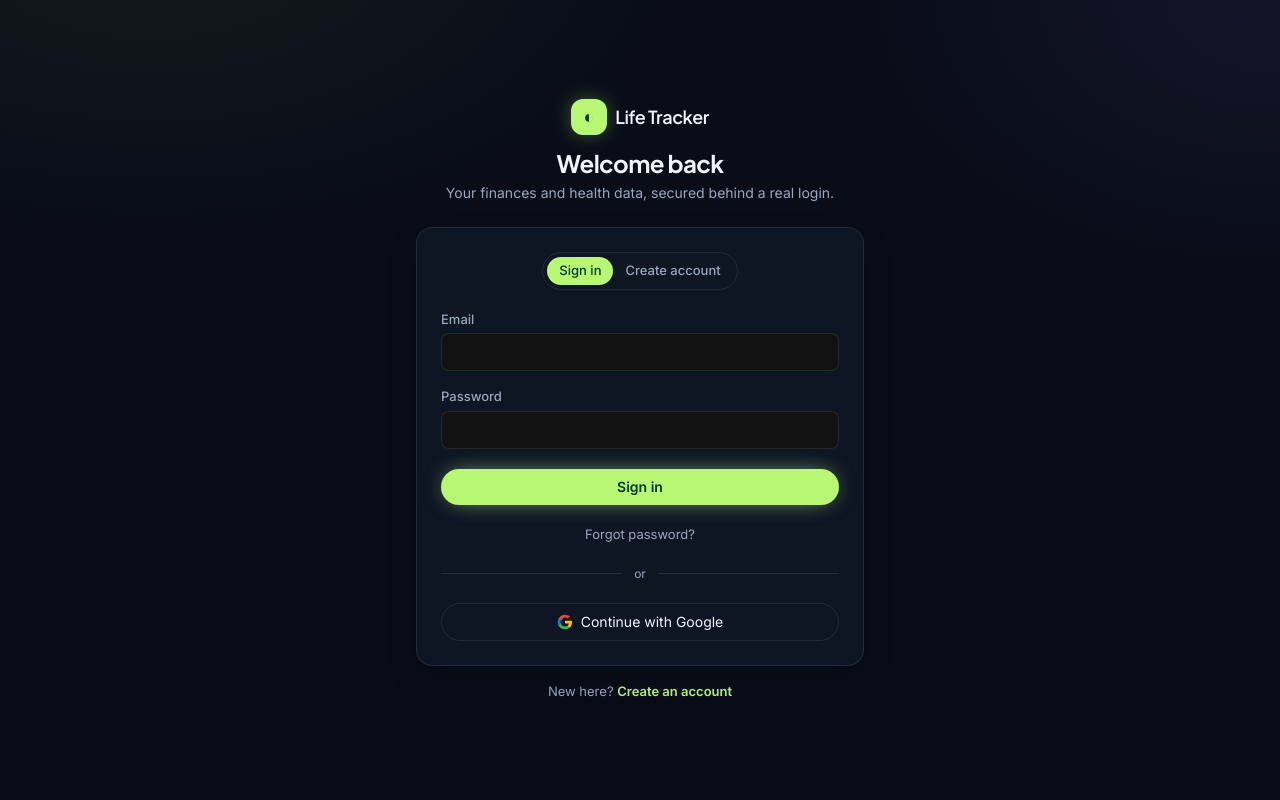
Test: Login / registration flow › blocks submit when the confirmation password does not match
Click the radio button labelled "Create account" at (673, 271), box [614,257,733,284]
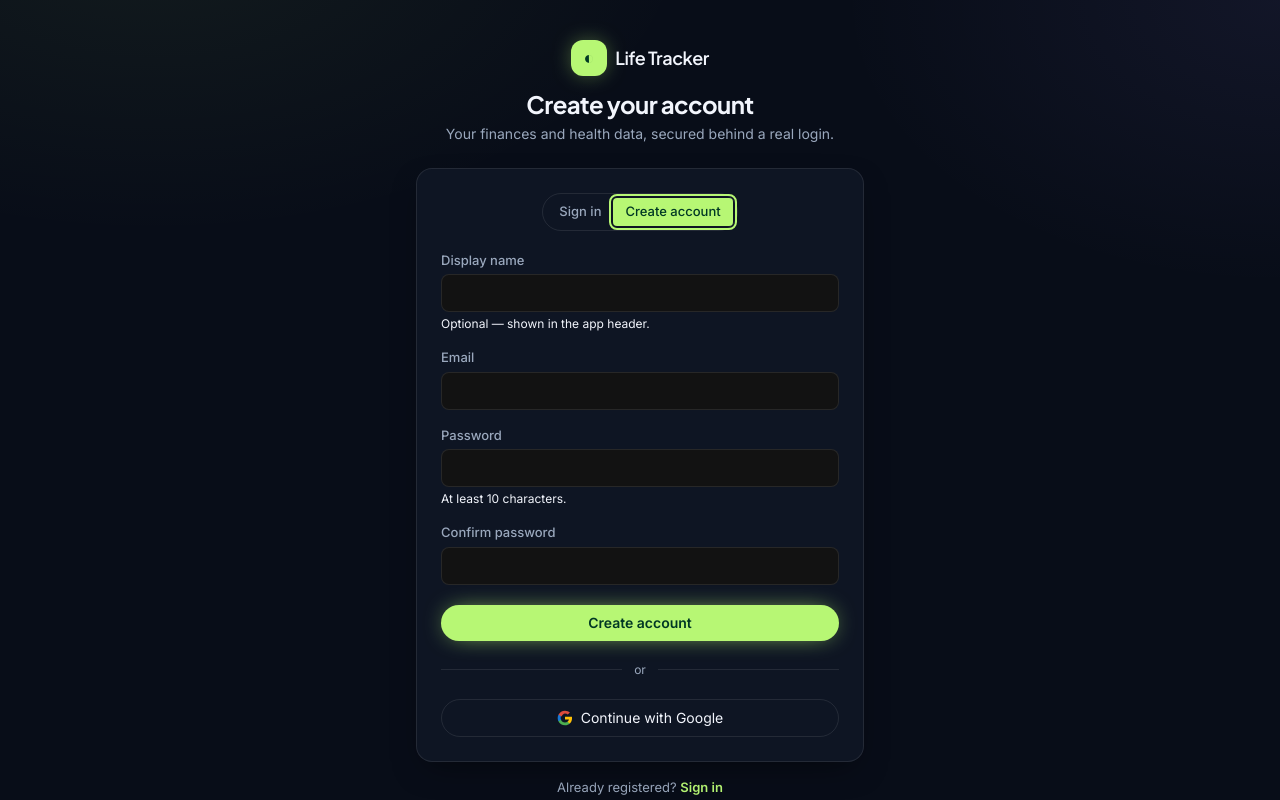
Type "new@example.com" into the field labelled "Email" at (640, 390), box [441,372,839,410]
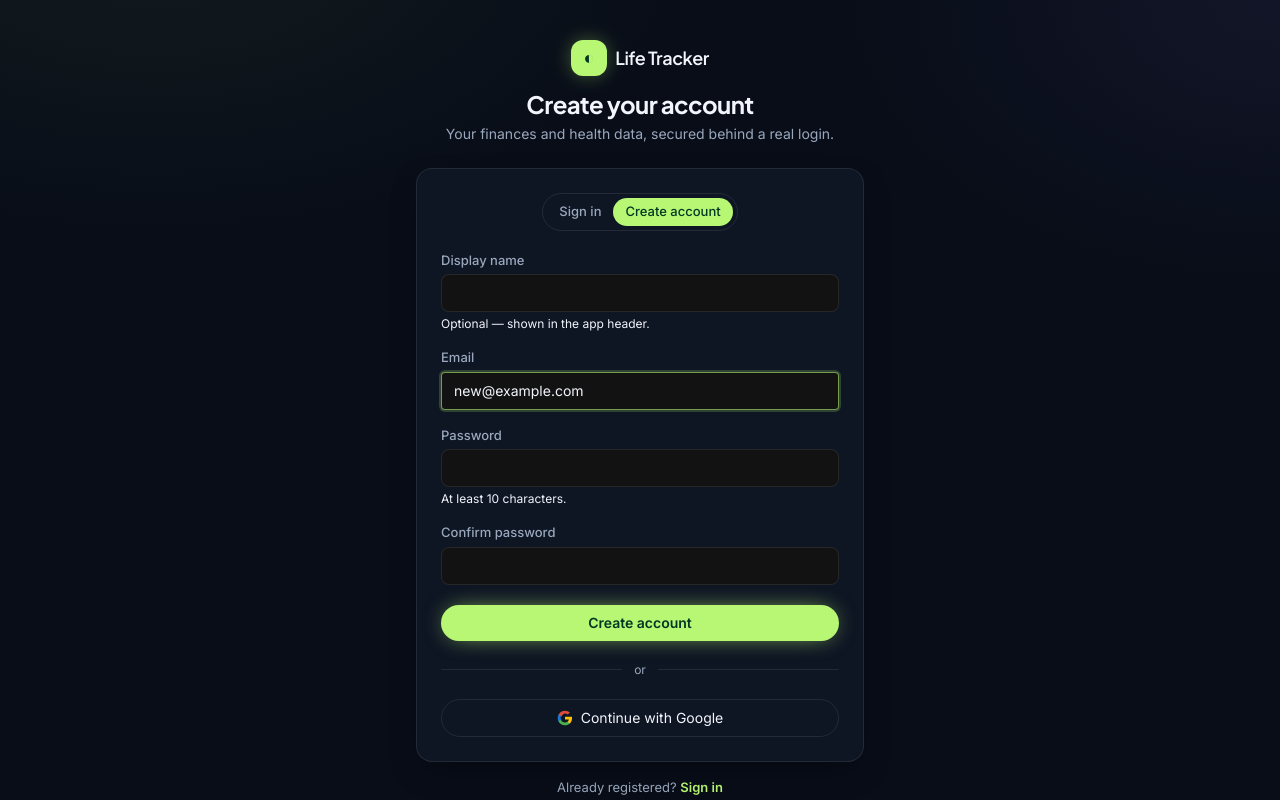
Type "supersecret123" into the password field labelled "Password" at (640, 468), box [441,449,839,487]
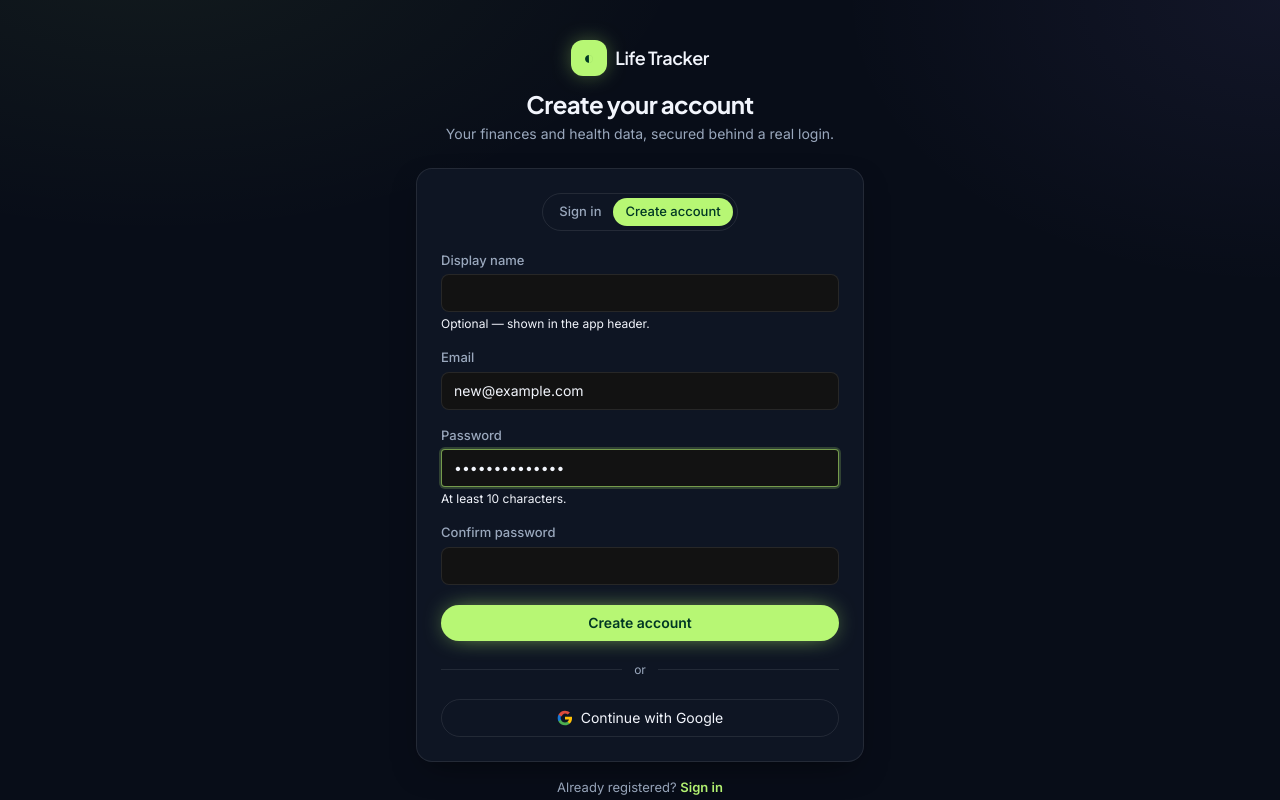
Type "different-pass1" into the password field labelled "Confirm password" at (640, 566), box [441,546,839,584]
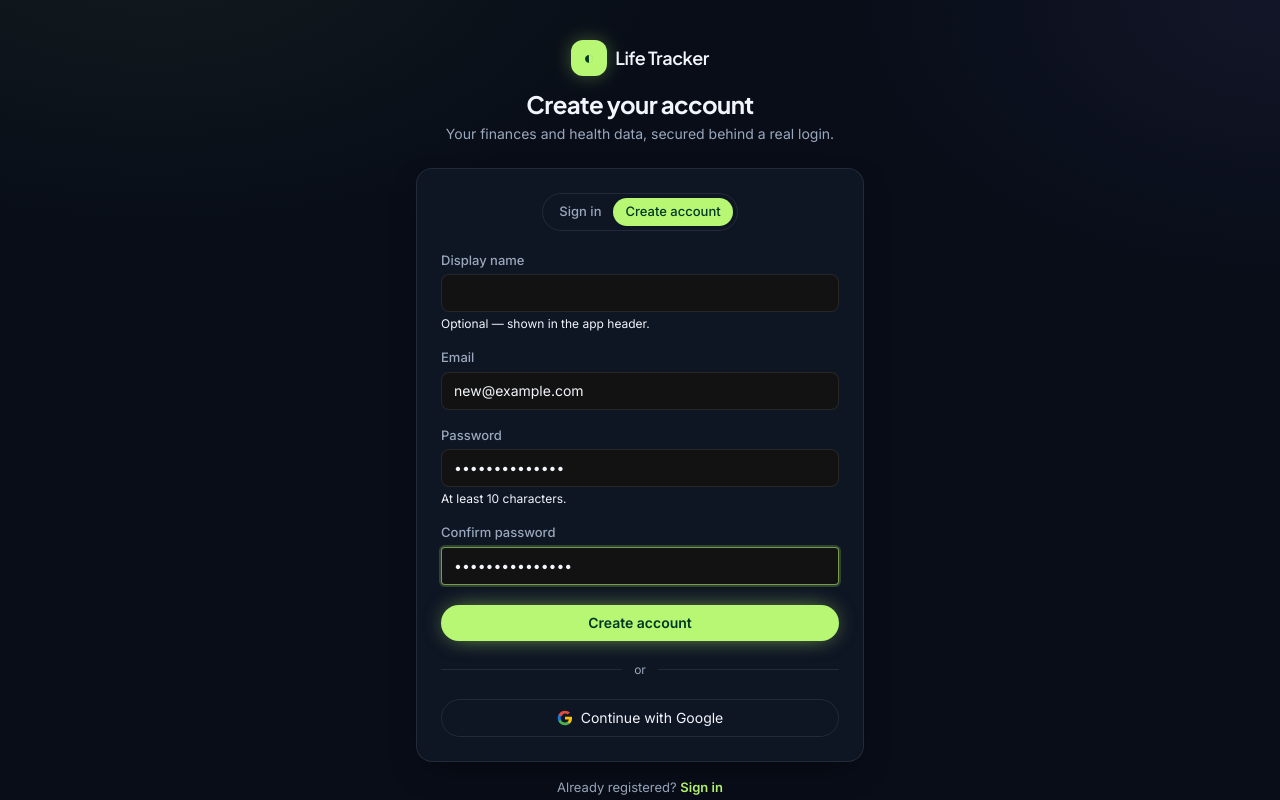
Click the button "Create account" at (640, 622), box [441,604,839,640]
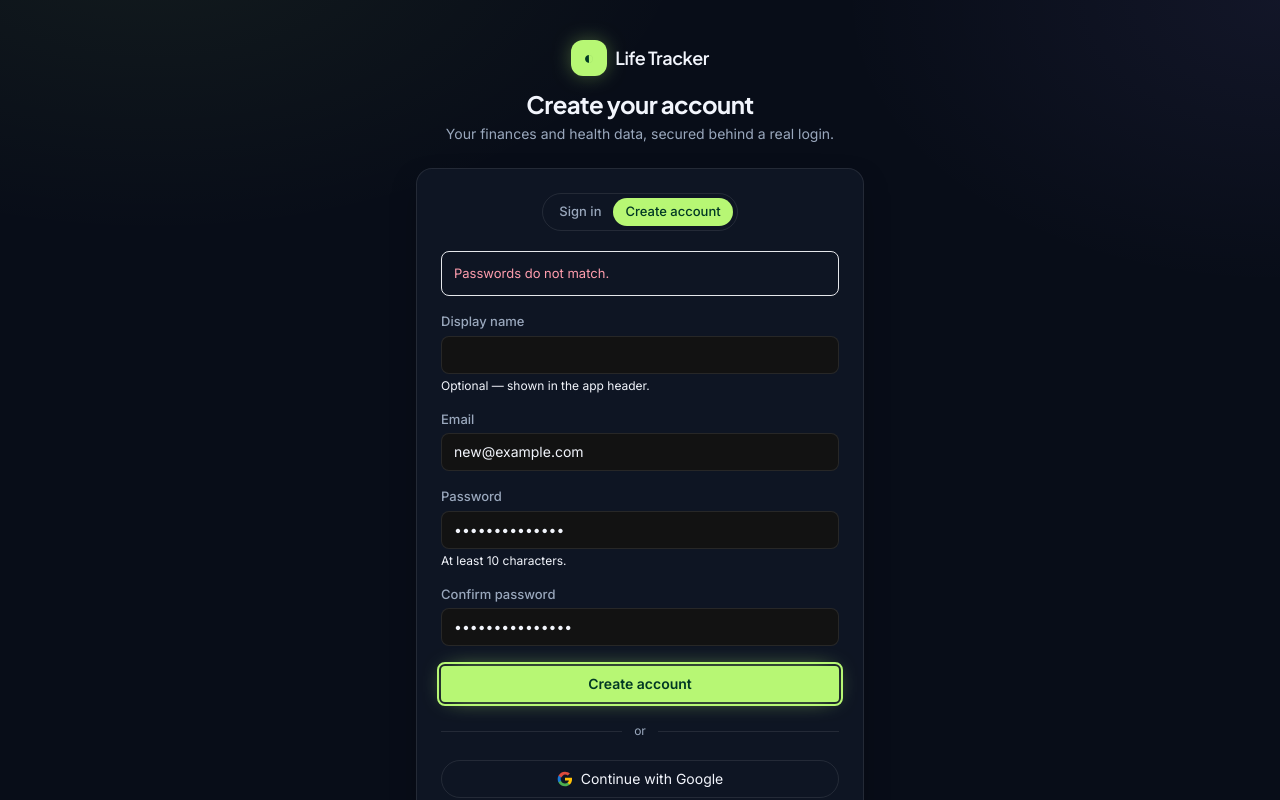
Expected: the text "Passwords do not match." is shown, [441,250,839,296]
